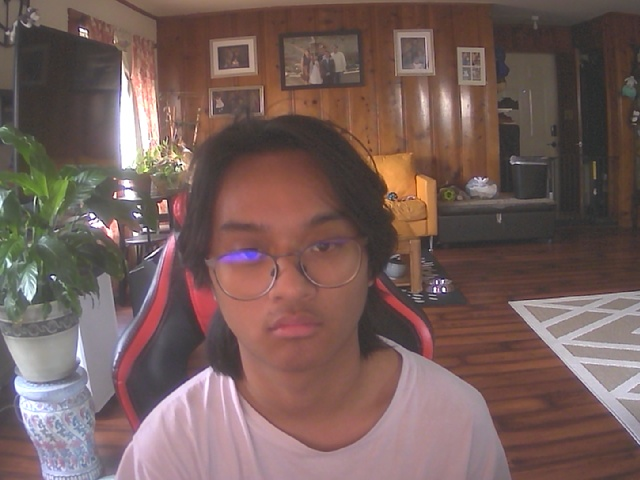neutral: (195, 127, 383, 375)
